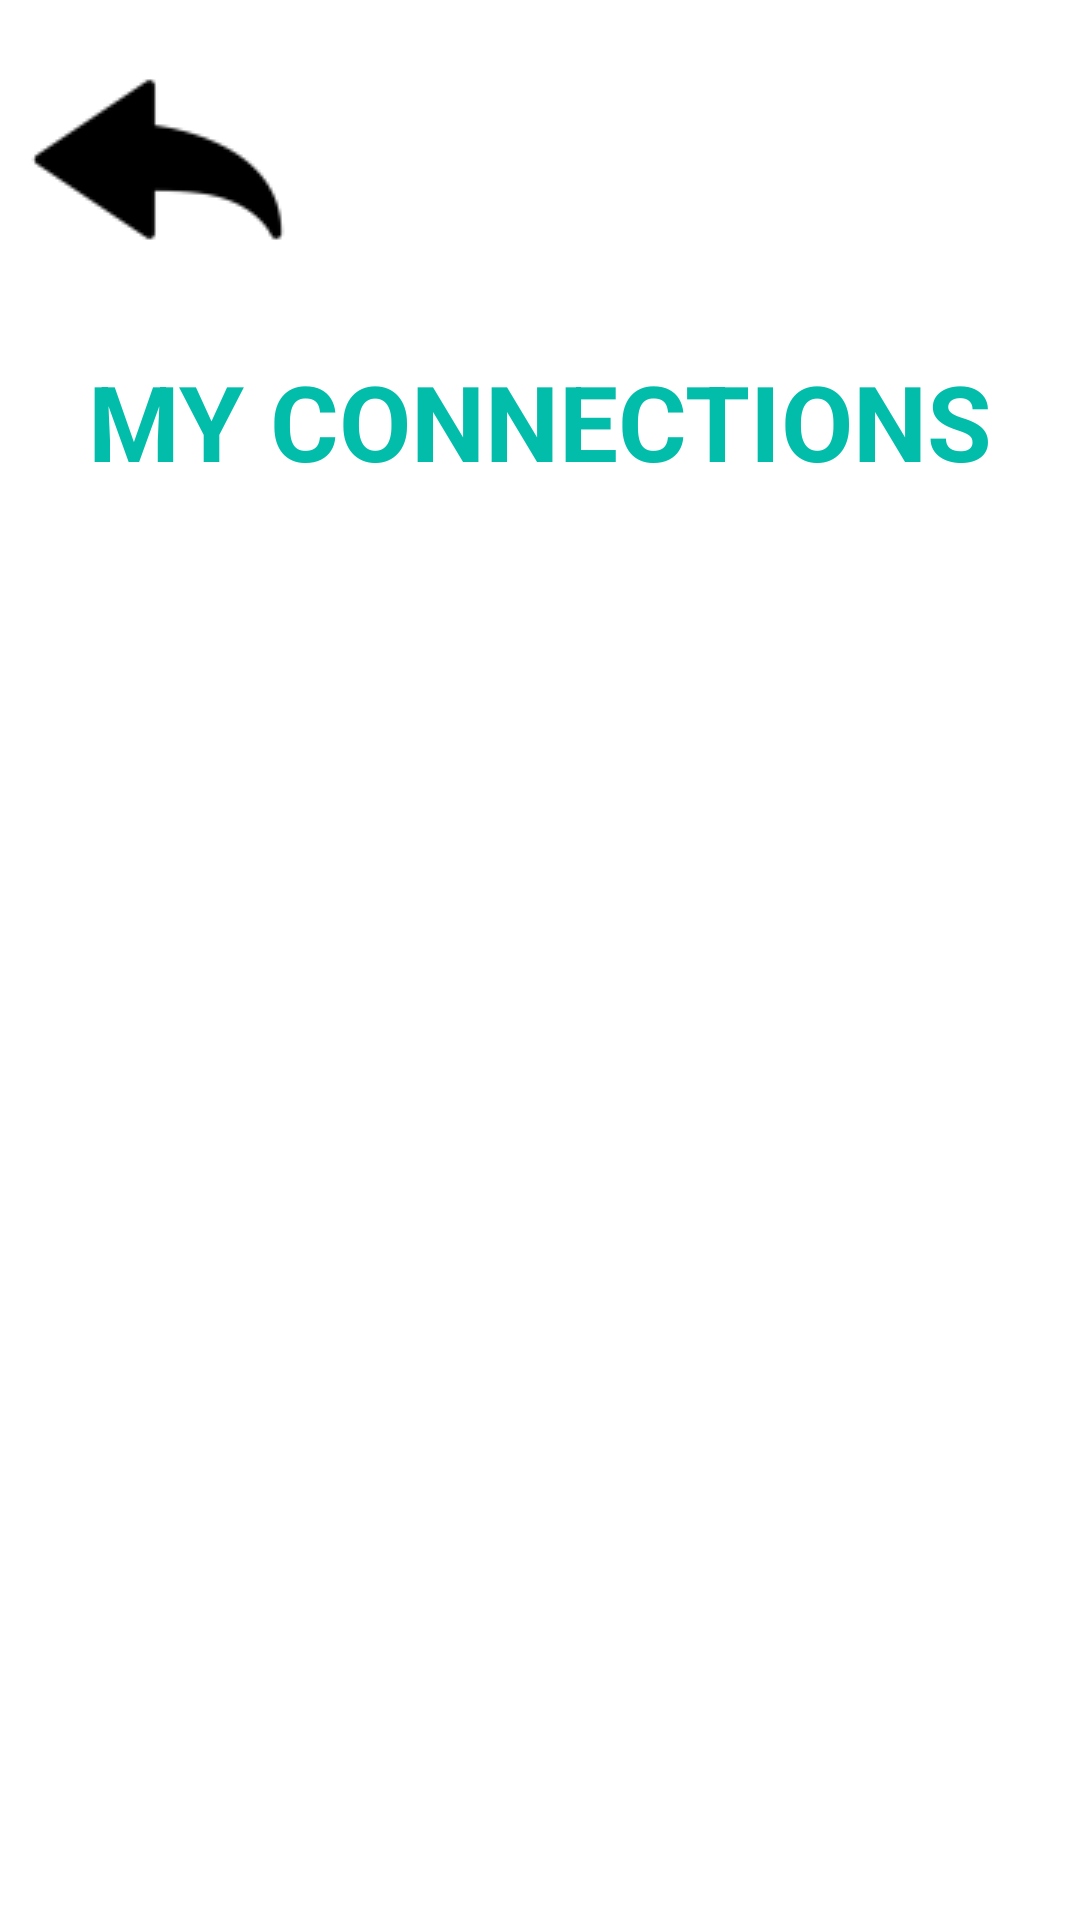

Point at icon controls on the screen. Image size 1080x1920, points as point (x, y).
back arrow image: point (158, 159)
